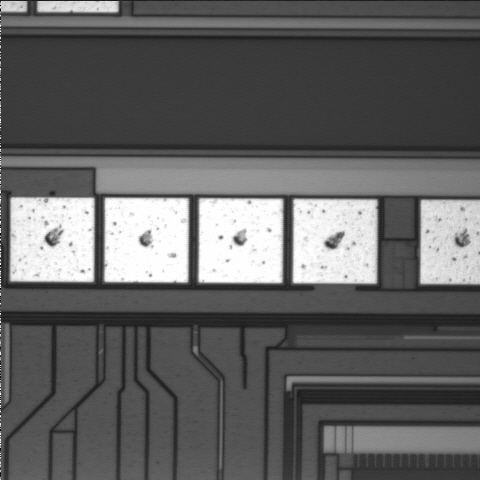pad: (104, 198, 189, 283), (198, 198, 283, 283), (10, 197, 94, 282), (293, 199, 377, 284)
